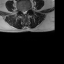CCS_normal: (23, 9, 25, 16)
LFS_stenosis: (27, 7, 29, 12)
LLS_normal: (25, 9, 27, 15)
RFS_severe_stenosis: (19, 8, 22, 12)
RLS_normal: (22, 9, 23, 15)
